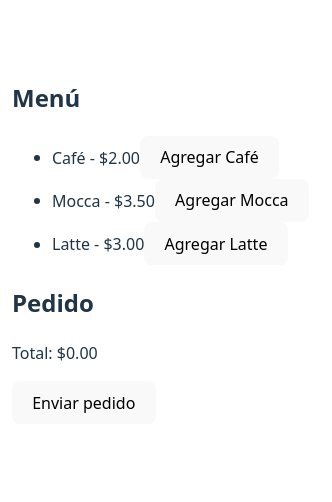
Test: calcula el total actualizado al agregar productos
This screenshot has width=332, height=502.
Click the button "Agregar Café".
click(210, 157)  # box [140,136,279,179]
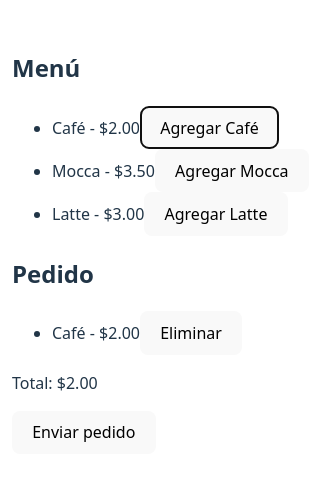
Click the button "Agregar Mocca".
click(232, 171)  # box [155,149,309,192]
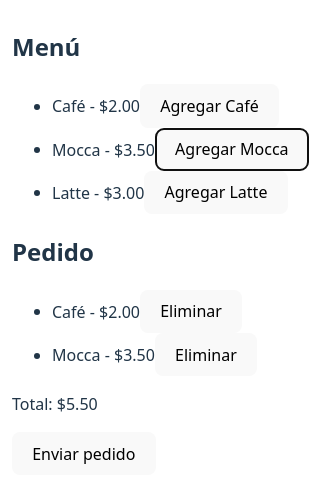
Expected: the list named "pedido" shows "Café", [52,300,86,322]
Expected: the list named "pedido" shows "Mocca", [52,344,100,366]
Expected: the text "Total: $5.50" is shown, [12,393,98,415]
Click the button "Agregar Café".
click(210, 106)  # box [140,84,279,128]
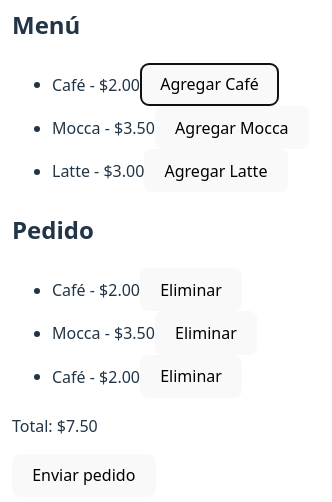
Expected: the text "Total: $7.50" is shown, [12,415,98,437]
